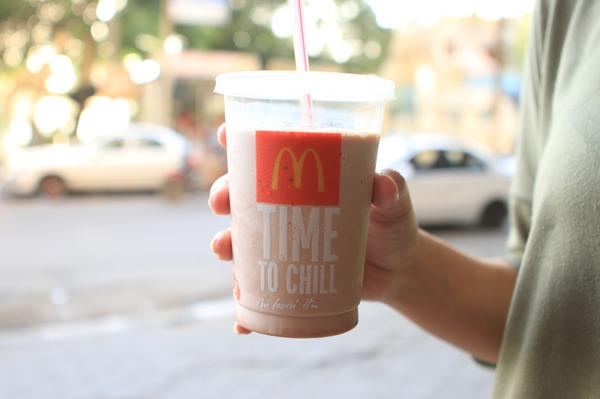mcdonalds: (270, 144, 328, 202)
